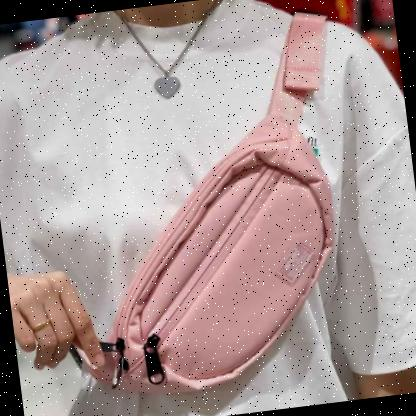bag: (53, 82, 371, 416)
